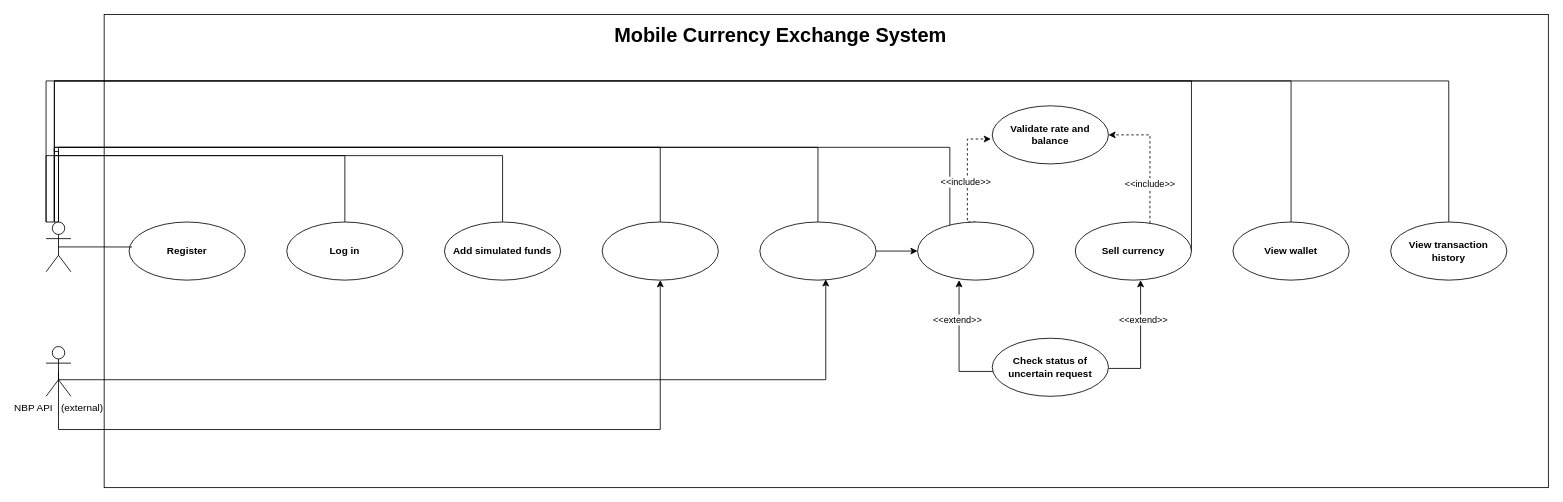
This 1563x502 diagram has some shape labels left out. The shapes that lost their labels are listed below. From the top down, each one's box as (x1, y1, x2, y2) in pixels, then its label:
(45, 221, 71, 272): User
(601, 221, 718, 280): View current rates
(759, 221, 876, 280): View rate history
(917, 221, 1034, 280): Buy currency
